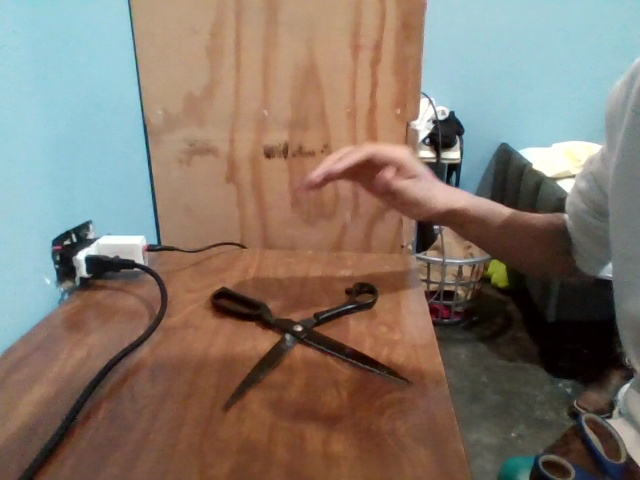tijeras: (206, 278, 412, 385)
